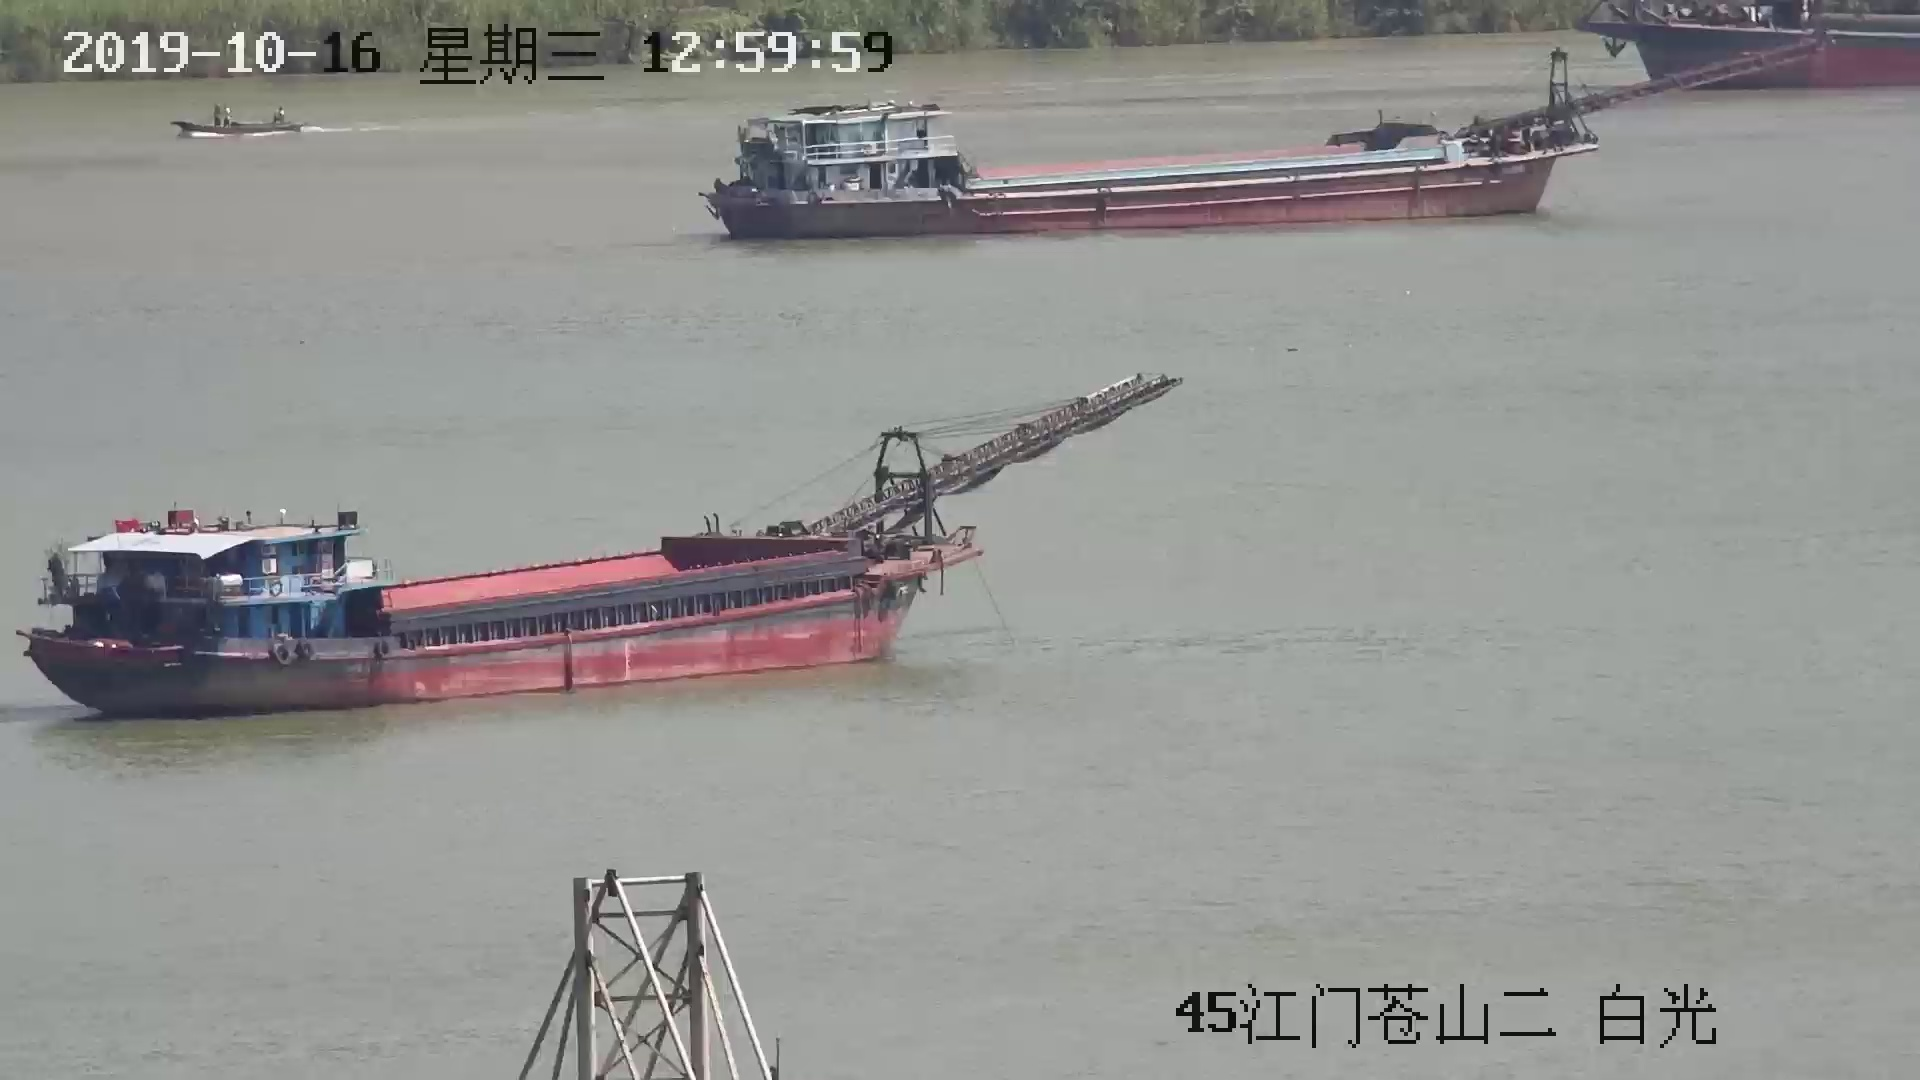ship: (17, 351, 1176, 728), (702, 86, 1600, 243), (166, 100, 305, 140)
